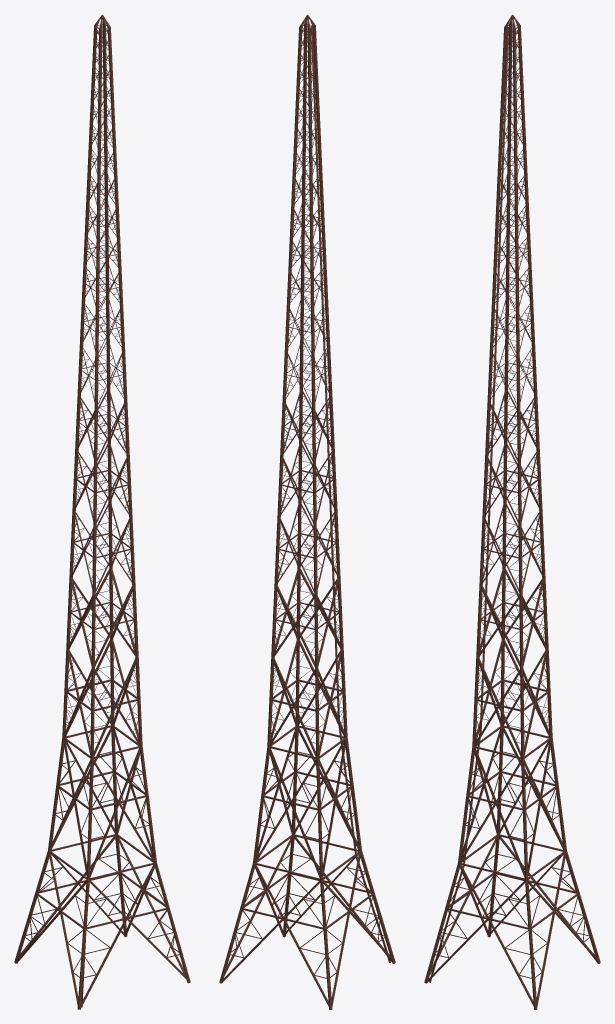
The model's file is Radiomasto_Lahti.gltf.
3 renders of one model, left to right at view 1: azimuth 30°, elevation 25°; view 2: azimuth 150°, elevation 25°; view 3: azimuth 330°, elevation 25°, orthographic.
Visible parts, largest first — view 1: node3_lod_200.001; view 2: node3_lod_200.001; view 3: node3_lod_200.001.
Boxes of the visible parts, x1,y1,x2,y2 form: node3_lod_200.001: (14, 14, 190, 1009); node3_lod_200.001: (219, 14, 395, 1009); node3_lod_200.001: (424, 14, 600, 1009).
Bounding box in the file's own units: 18.36 × 150 × 18.36.
